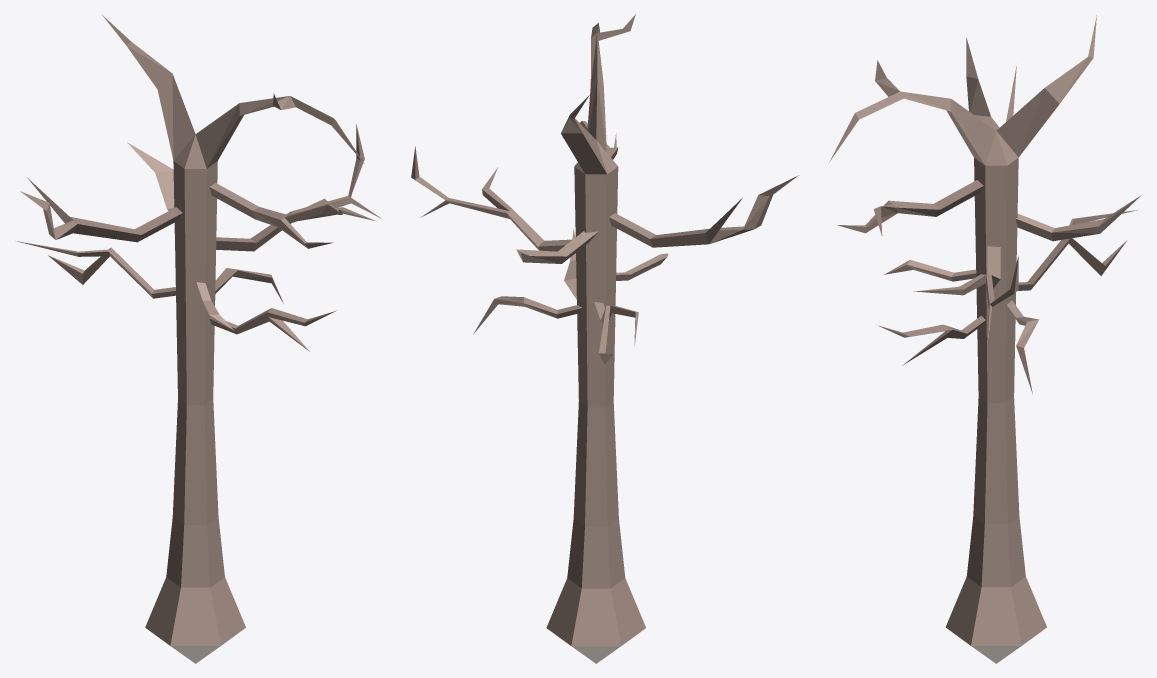
Rendered from TreeDeadPine.fbx.
The picture shows the model from 3 angles, left to right: view 1: azimuth 30°, elevation 25°; view 2: azimuth 150°, elevation 25°; view 3: azimuth 270°, elevation 25°; orthographic projection.
Visible parts, largest first — view 1: TreeDeadPine; view 2: TreeDeadPine; view 3: TreeDeadPine.
Boxes of the visible parts, bbox=[...] form: TreeDeadPine: bbox=[15, 15, 381, 663]; TreeDeadPine: bbox=[411, 14, 798, 663]; TreeDeadPine: bbox=[829, 15, 1141, 663].
Bounding box in the file's own units: 5.59 × 8.92 × 4.04.
